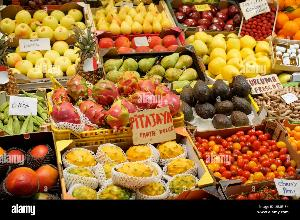apple: (186, 32, 270, 76), (1, 43, 96, 79), (0, 7, 82, 46), (176, 1, 246, 34)
avocado: (176, 75, 250, 132)
pear: (102, 48, 194, 92), (94, 5, 172, 35)
pitaya: (44, 81, 176, 145)
tomato: (198, 130, 300, 178)
